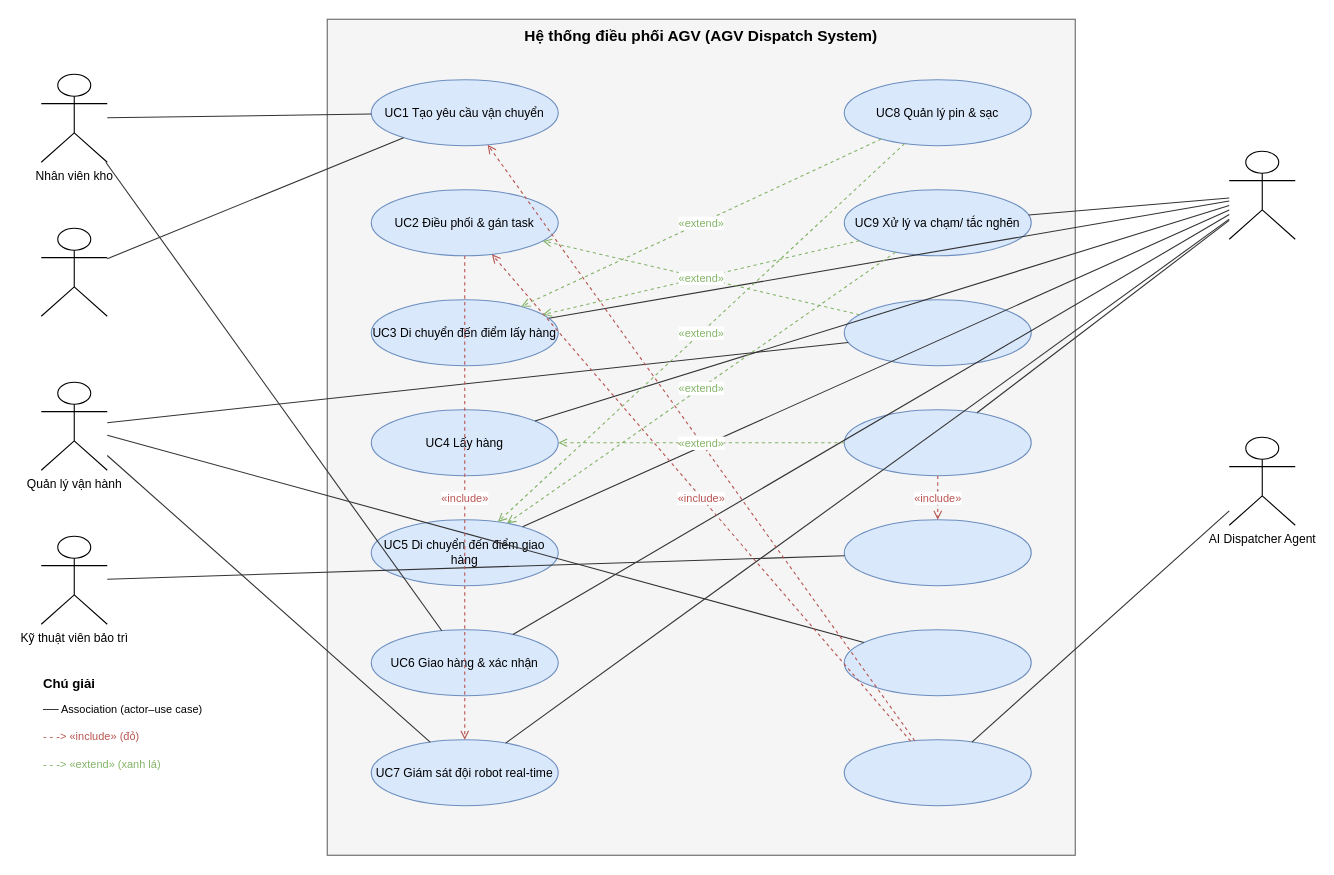
The diagram is 1334 pixels wide and 875 high, and some of its shapes have lost their labels. The shapes that lost their labels are listed below. From the top down, each one's centre as x and y in pixels, then its label:
(1261,194): AGV Robot
(73,271): Hệ thống WMS/ERP
(937,332): UC10 Chèn ưu tiên khẩn cấp
(937,442): UC11 Báo lỗi & yêu cầu bảo trì
(937,552): UC12 Thực hiện bảo trì
(937,662): UC13 Override / dừng khẩn cấp
(937,772): UC14 Ra lệnh AI Dispatcher (NLP)
